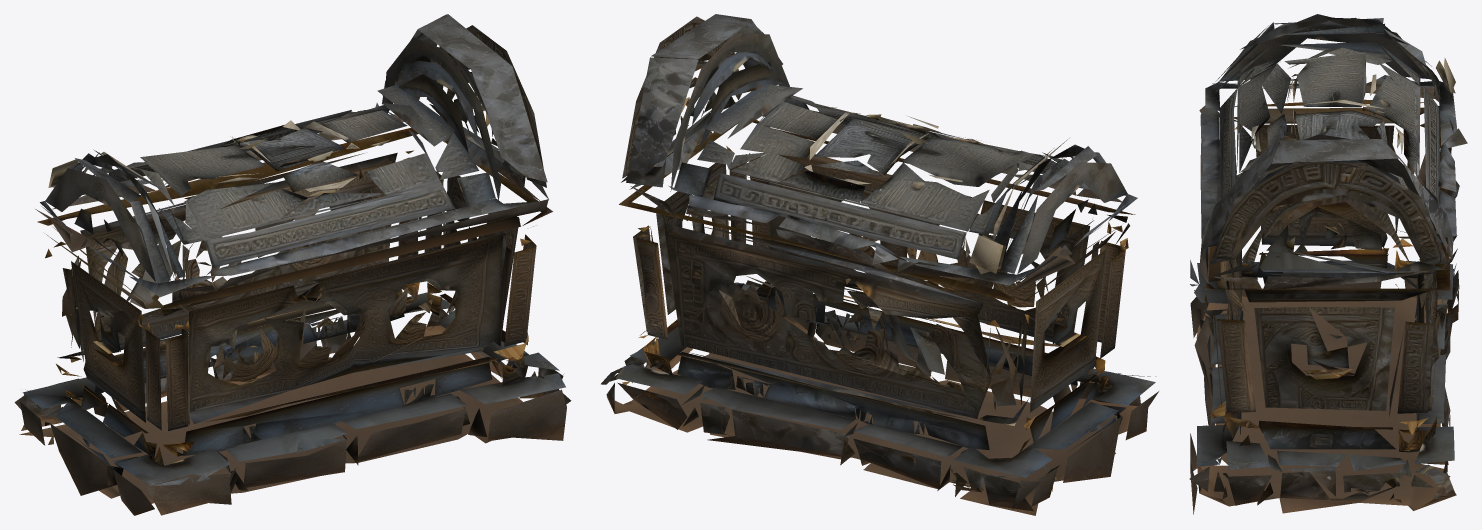
File: ch7_optional_tomb_sarcophagus_LOD3.glb
3 renders of one model, left to right at view 1: azimuth 30°, elevation 25°; view 2: azimuth 150°, elevation 25°; view 3: azimuth 270°, elevation 25°, orthographic.
Visible parts, largest first — view 1: tripo_node_d0dc9616-0aa3-4cdb-b869-7b7e4bd80c04; view 2: tripo_node_d0dc9616-0aa3-4cdb-b869-7b7e4bd80c04; view 3: tripo_node_d0dc9616-0aa3-4cdb-b869-7b7e4bd80c04.
Boxes of the visible parts, x1,y1,x2,y2 form: tripo_node_d0dc9616-0aa3-4cdb-b869-7b7e4bd80c04: (14,14,571,515); tripo_node_d0dc9616-0aa3-4cdb-b869-7b7e4bd80c04: (601,14,1158,515); tripo_node_d0dc9616-0aa3-4cdb-b869-7b7e4bd80c04: (1189,14,1467,514).
Bounding box in the file's own units: 1.02 × 0.784 × 0.5572.
1 material, 1 textured.
